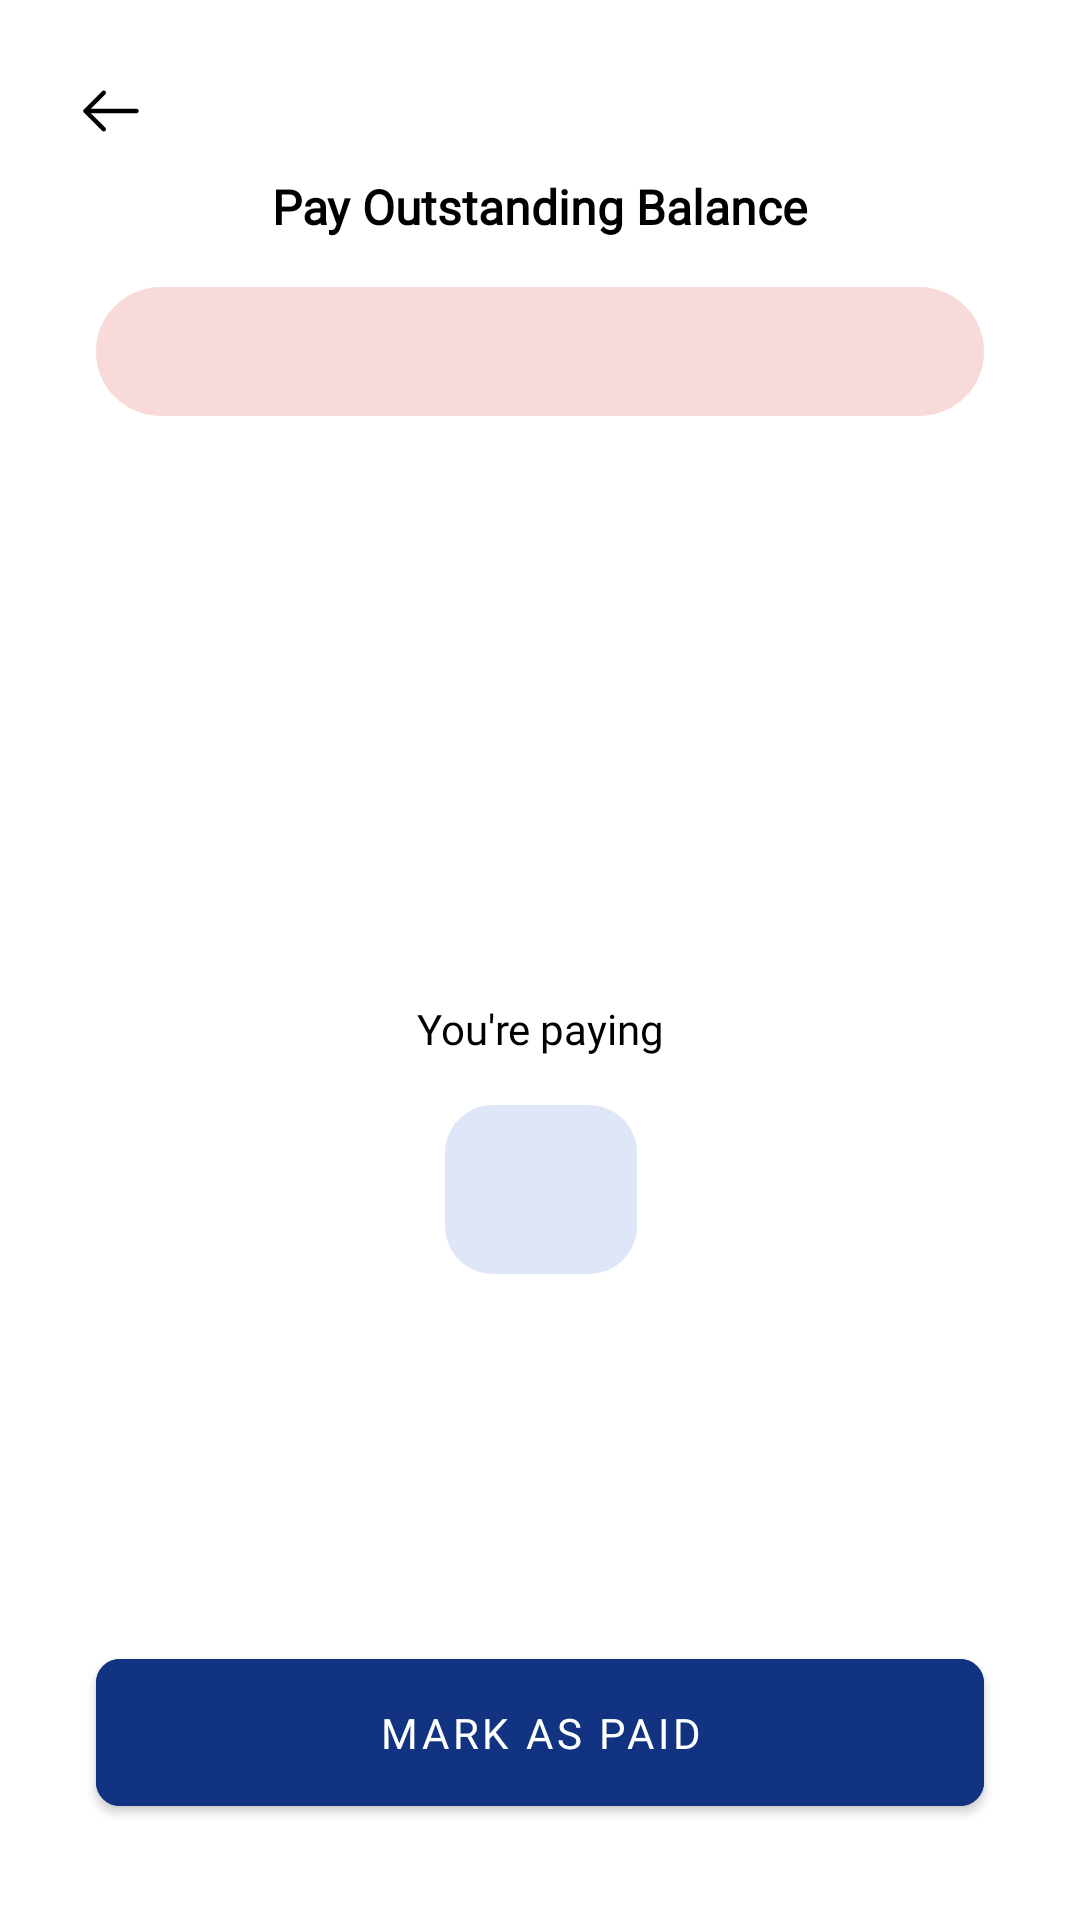

Icon click points for this 1080 × 1920 phone screenshot, format point (x, y):
arrow left: point (111, 111)
